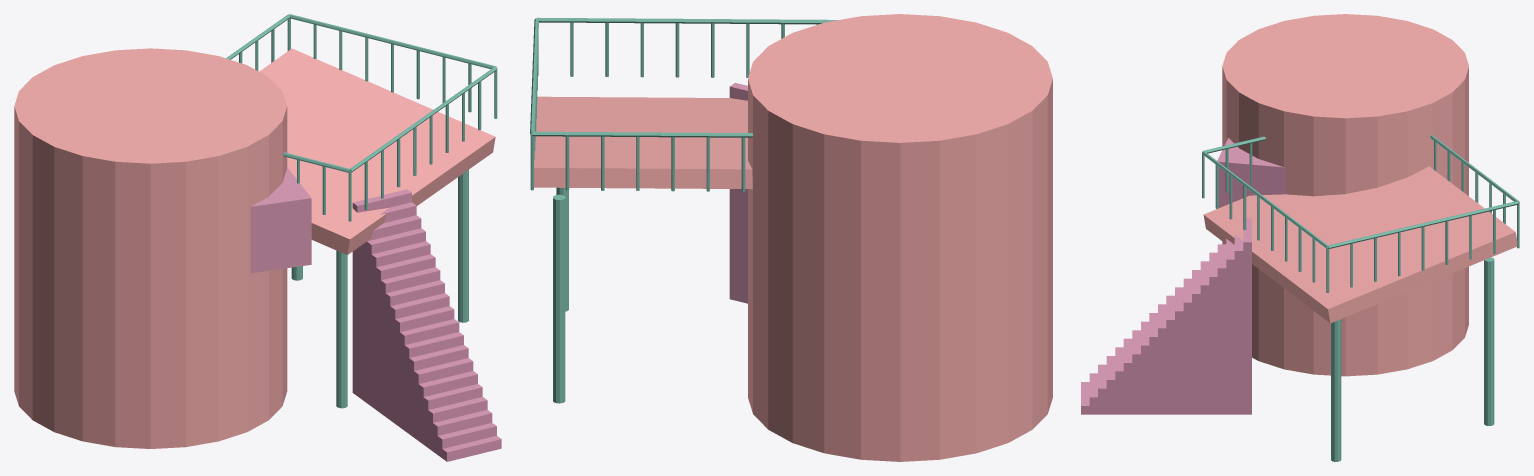
Rendered from folie_tag_035.glb.
3 renders of one model, left to right at view 1: azimuth 30°, elevation 25°; view 2: azimuth 150°, elevation 25°; view 3: azimuth 270°, elevation 25°, orthographic. The views are drawn at different scales.
Visible parts, largest first — view 1: folie_tag_035_00_drum, folie_tag_035_stairs, folie_tag_035_01_plate, folie_tag_035_line, folie_tag_035_02_block; view 2: folie_tag_035_00_drum, folie_tag_035_01_plate, folie_tag_035_line, folie_tag_035_stairs, folie_tag_035_core; view 3: folie_tag_035_00_drum, folie_tag_035_01_plate, folie_tag_035_stairs, folie_tag_035_line, folie_tag_035_02_block.
Part boxes in pixels (box(x1,y1,x2,y2)): folie_tag_035_00_drum: box(14, 48, 287, 448); folie_tag_035_stairs: box(352, 189, 501, 461); folie_tag_035_01_plate: box(259, 48, 495, 254); folie_tag_035_line: box(226, 14, 497, 408); folie_tag_035_02_block: box(250, 168, 311, 273); folie_tag_035_00_drum: box(748, 14, 1052, 461); folie_tag_035_01_plate: box(534, 96, 752, 189); folie_tag_035_line: box(530, 17, 837, 403); folie_tag_035_stairs: box(729, 82, 747, 303); folie_tag_035_core: box(885, 39, 972, 75); folie_tag_035_00_drum: box(1222, 14, 1468, 376); folie_tag_035_01_plate: box(1203, 166, 1517, 323); folie_tag_035_stairs: box(1081, 218, 1251, 414); folie_tag_035_line: box(1202, 135, 1519, 461); folie_tag_035_02_block: box(1217, 138, 1285, 207).
Bounding box in the file's own units: 10.01 × 6 × 9.25.
